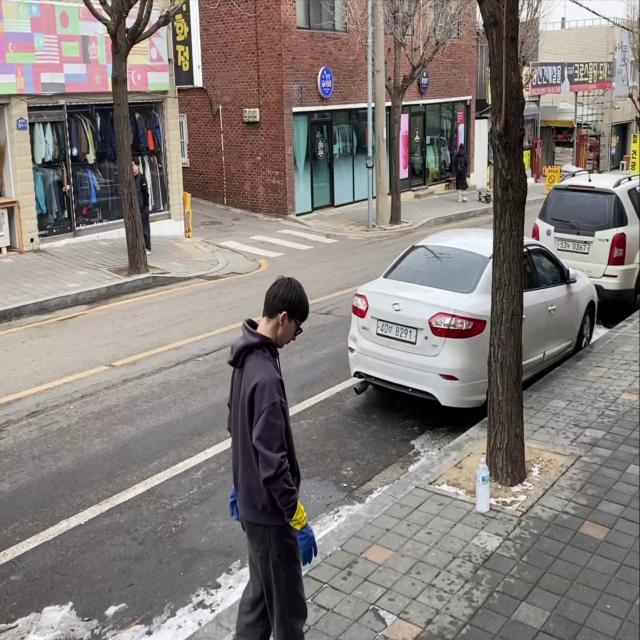gloved_hand: (293, 523, 321, 568), (224, 483, 248, 522)
